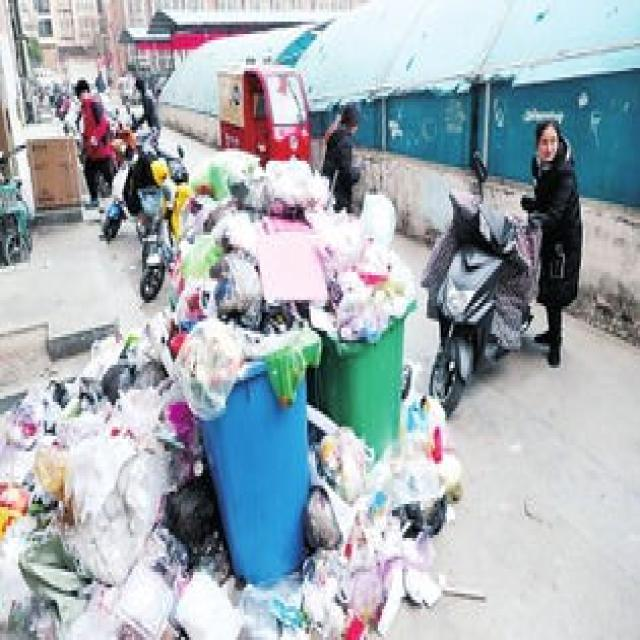garbage: (0, 309, 482, 634)
overflow: (171, 146, 319, 584), (315, 195, 416, 458)
